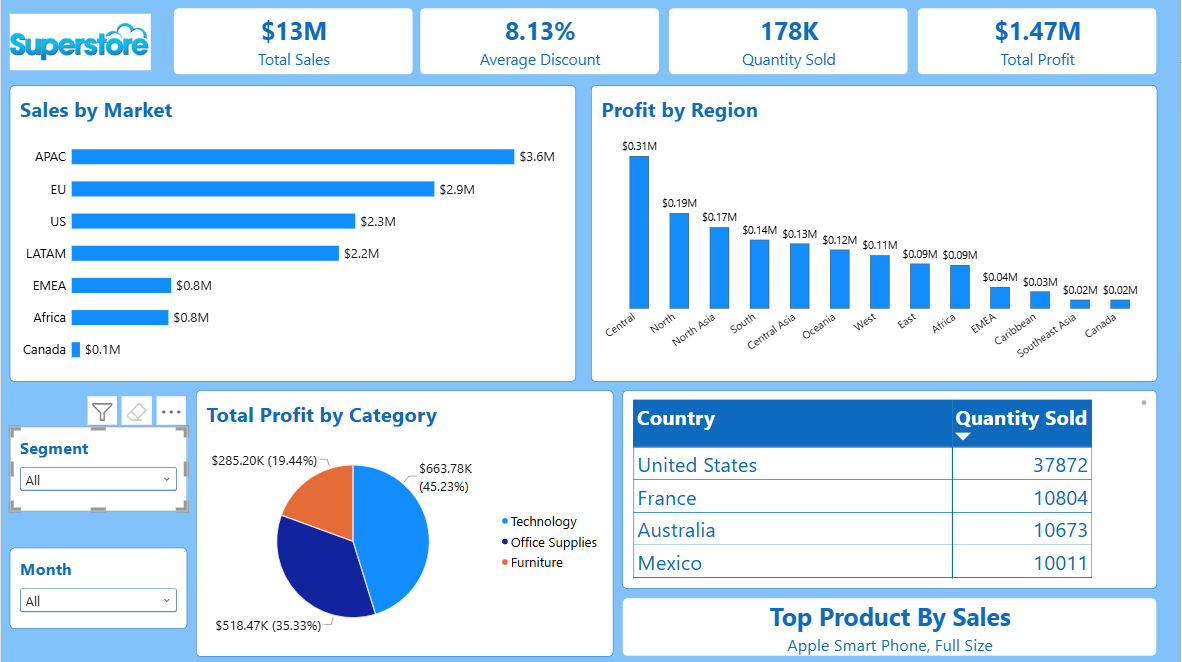

Layout of this report page (visuals, bound fields, positions):
{"tool":"powerbi","page":{"name":"Page 1","canvas":[1920,1080],"ordinal":0},"visuals":[{"type":"cardVisual","fields":{"Data":["superstore_bersih.Total Sales"]},"box":[280.7,14.2,390.6,109.9],"z":0},{"type":"cardVisual","fields":{"Data":["superstore_bersih.Average Discount"]},"box":[681.5,14.2,390.6,109.9],"z":1000},{"type":"cardVisual","fields":{"Data":["superstore_bersih.Quantity Sold"]},"box":[1086.3,14.2,390.6,109.9],"z":2000},{"type":"cardVisual","fields":{"Data":["superstore_bersih.Total Profit"]},"box":[1491.2,14.2,390.6,109.9],"z":3000},{"type":"clusteredBarChart","title":"Sales by Market","fields":{"Category":["superstore_bersih.Market"],"Y":["superstore_bersih.Total Sales"]},"box":[14.2,140.4,921.6,482.1],"z":4000},{"type":"clusteredColumnChart","title":"Profit by Region","fields":{"Category":["superstore_bersih.Region"],"Y":["superstore_bersih.Total Profit"]},"box":[960.2,140.4,921.6,482.1],"z":5000},{"type":"pieChart","title":"Total Profit by Category","fields":{"Category":["superstore_bersih.Category"],"Y":["superstore_bersih.Total Profit"]},"box":[317.4,636.7,679.5,433.3],"z":6000},{"type":"listSlicer","fields":{"Values":["DimTanggal.Month"]},"box":[14.2,893.1,288.9,132.2],"z":7000},{"type":"listSlicer","fields":{"Values":["superstore_bersih.Segment"]},"box":[14.2,695.7,288.9,138.3],"z":8000},{"type":"tableEx","fields":{"Values":["superstore_bersih.Country","superstore_bersih.Quantity Sold"]},"box":[1011.1,636.7,870.7,323.5],"z":9000},{"type":"image","box":[14.2,0,229.9,140.4],"z":10000},{"type":"cardVisual","fields":{"Data":["superstore_bersih.Top Product By Sales"]},"box":[1011.1,974.4,870.7,95.6],"z":15000}]}

Visuals, with their boxes in screenshot pixels (x1, y1, x2, y2), scaled from the page's 1920x1080 canvas onto the 1182x662 screenshot:
cardVisual - superstore_bersih.Total Sales: 173,9,413,76
cardVisual - superstore_bersih.Average Discount: 420,9,660,76
cardVisual - superstore_bersih.Quantity Sold: 669,9,909,76
cardVisual - superstore_bersih.Total Profit: 918,9,1158,76
"Sales by Market" clusteredBarChart: 9,86,576,382
"Profit by Region" clusteredColumnChart: 591,86,1158,382
"Total Profit by Category" pieChart: 195,390,614,656
listSlicer - DimTanggal.Month: 9,547,187,628
listSlicer - superstore_bersih.Segment: 9,426,187,511
tableEx - superstore_bersih.Country x superstore_bersih.Quantity Sold: 622,390,1158,589
image: 9,0,150,86
cardVisual - superstore_bersih.Top Product By Sales: 622,597,1158,656
